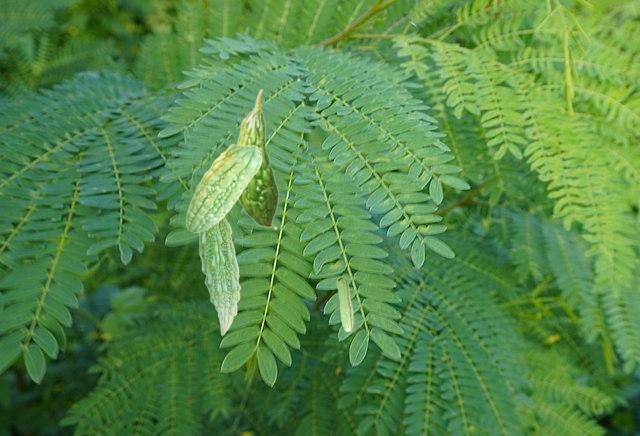ampalaya: (185, 143, 262, 233), (236, 88, 279, 230), (198, 217, 241, 336), (336, 276, 355, 332)
